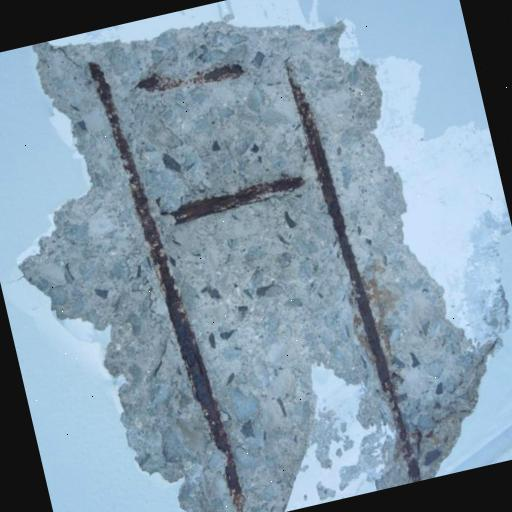spalling: (17, 14, 510, 512)
